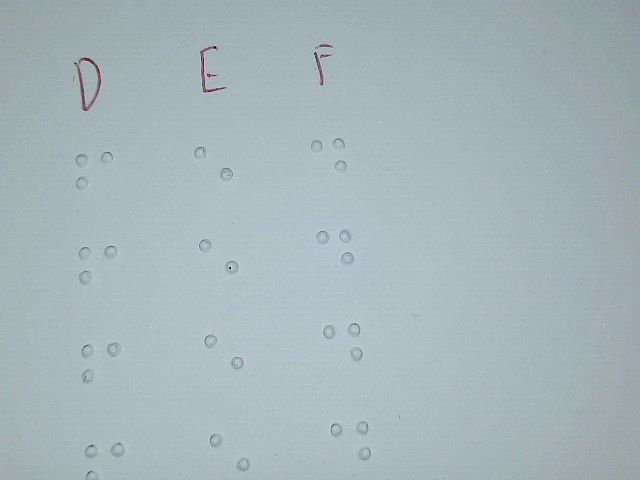D: (308, 124, 349, 195), (314, 215, 355, 286), (322, 308, 363, 379)
E: (193, 132, 234, 203), (198, 225, 239, 296), (203, 321, 244, 392)
F: (77, 231, 119, 307), (73, 139, 115, 215), (80, 329, 122, 405)
